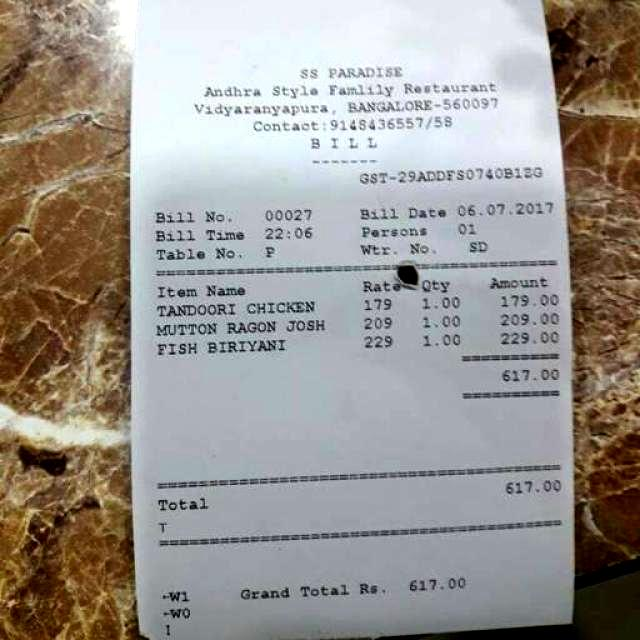Paper: (127, 0, 577, 640)
